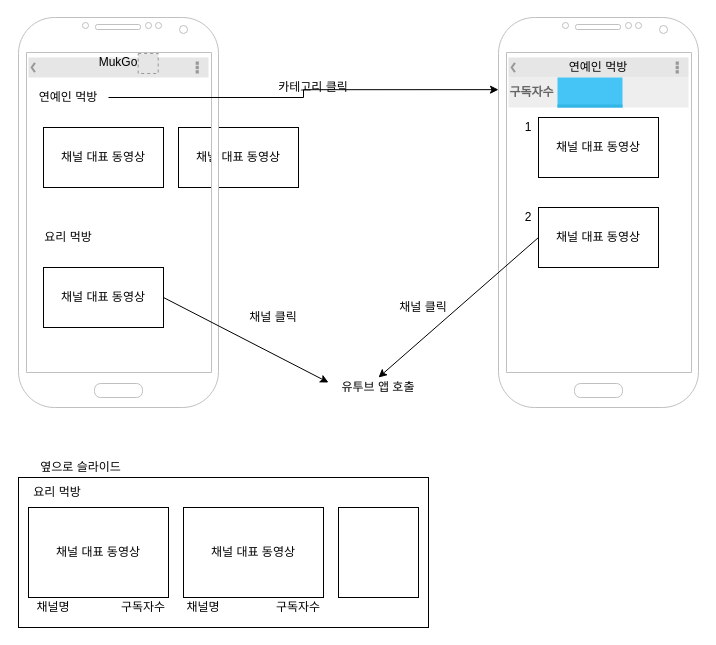
Some shapes in this 716 by 645 pixel diagram are drawn without their labels. Grey dashed boxes stand in for pictures. Each missing label, with the centre of its shape:
"조회수" belongs at point (589, 92).
"채널생성일" belongs at point (655, 92).
